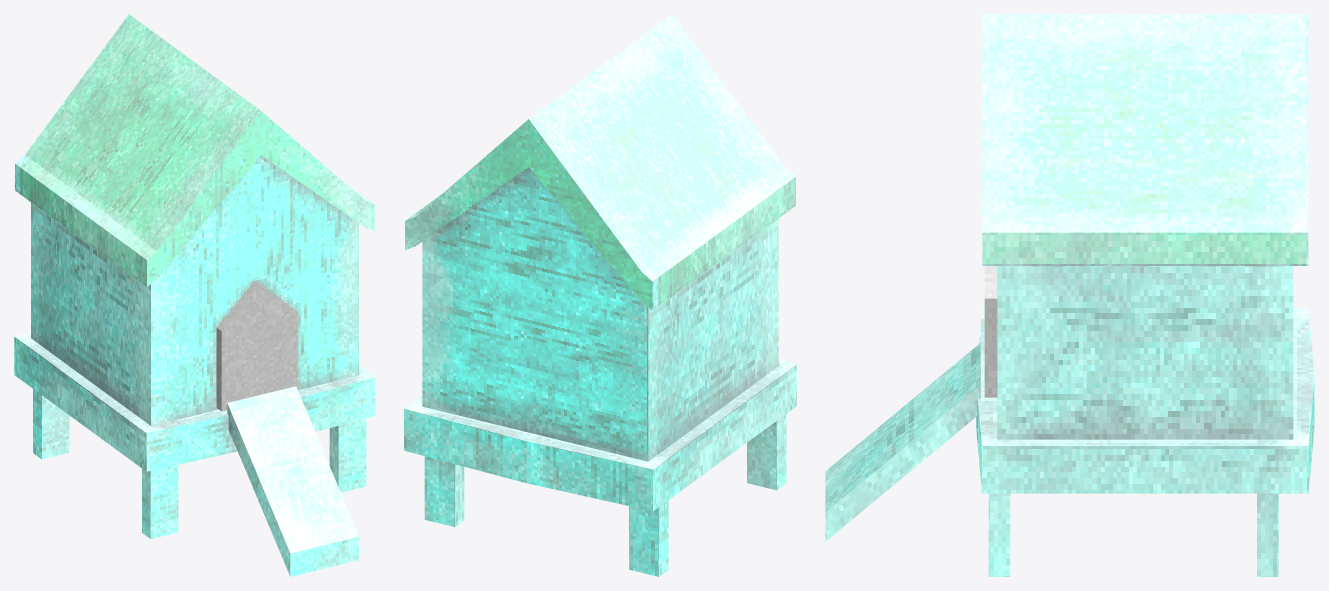
File: Chicken_Coop_Var2.glb
3 renders of one model, left to right at view 1: azimuth 30°, elevation 25°; view 2: azimuth 150°, elevation 25°; view 3: azimuth 270°, elevation 25°, orthographic. The views are drawn at different scales.
Parts seen in each view (by area): view 1: Chicken-Coop_Variant_2; view 2: Chicken-Coop_Variant_2; view 3: Chicken-Coop_Variant_2.
Part boxes in pixels (box(x1,y1,x2,y2)): Chicken-Coop_Variant_2: box(14, 14, 375, 576); Chicken-Coop_Variant_2: box(404, 14, 796, 576); Chicken-Coop_Variant_2: box(825, 14, 1314, 576).
Size of the model in its own units: 2.2 by 3.78 by 3.31.
